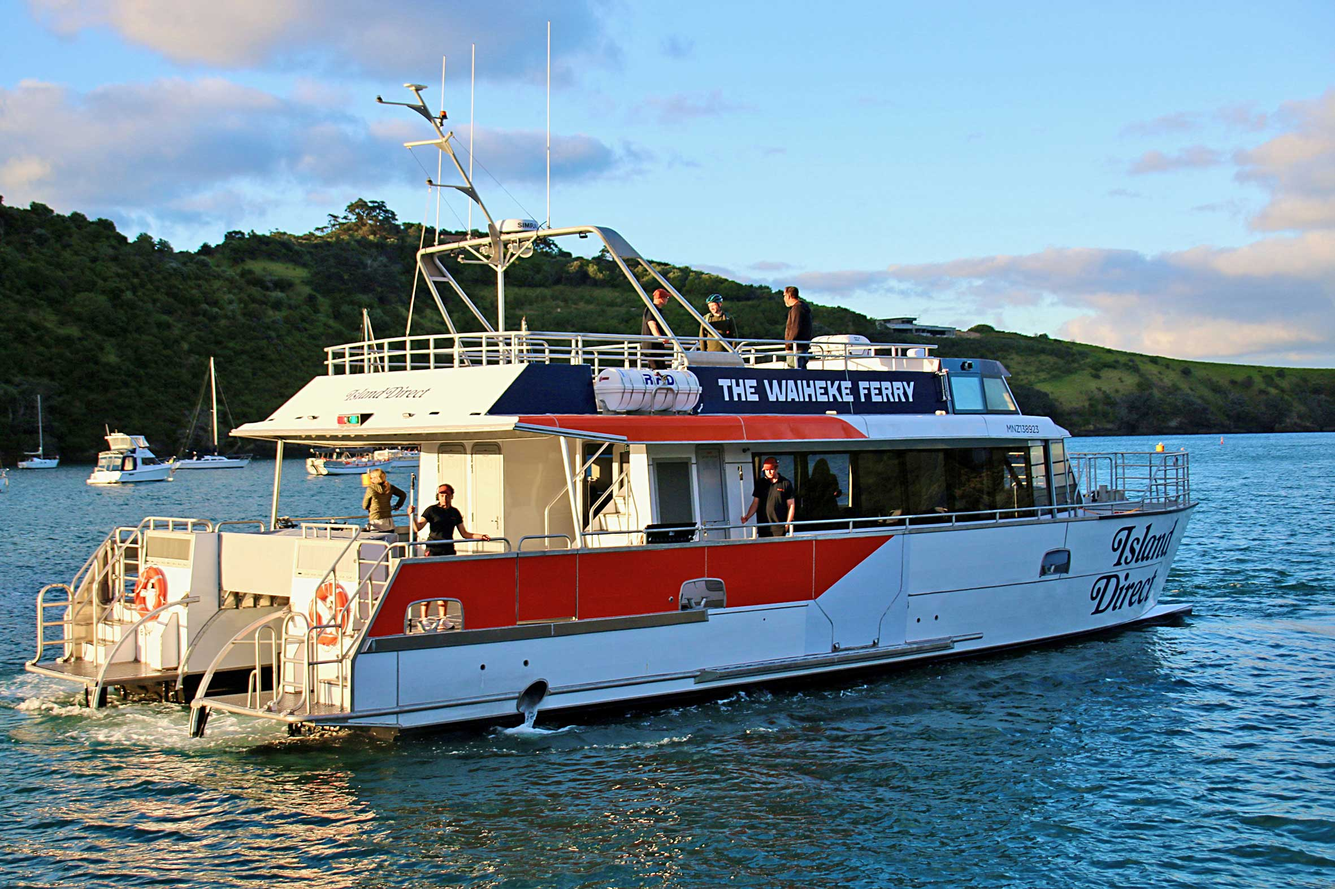ferry: (24, 79, 1200, 742)
